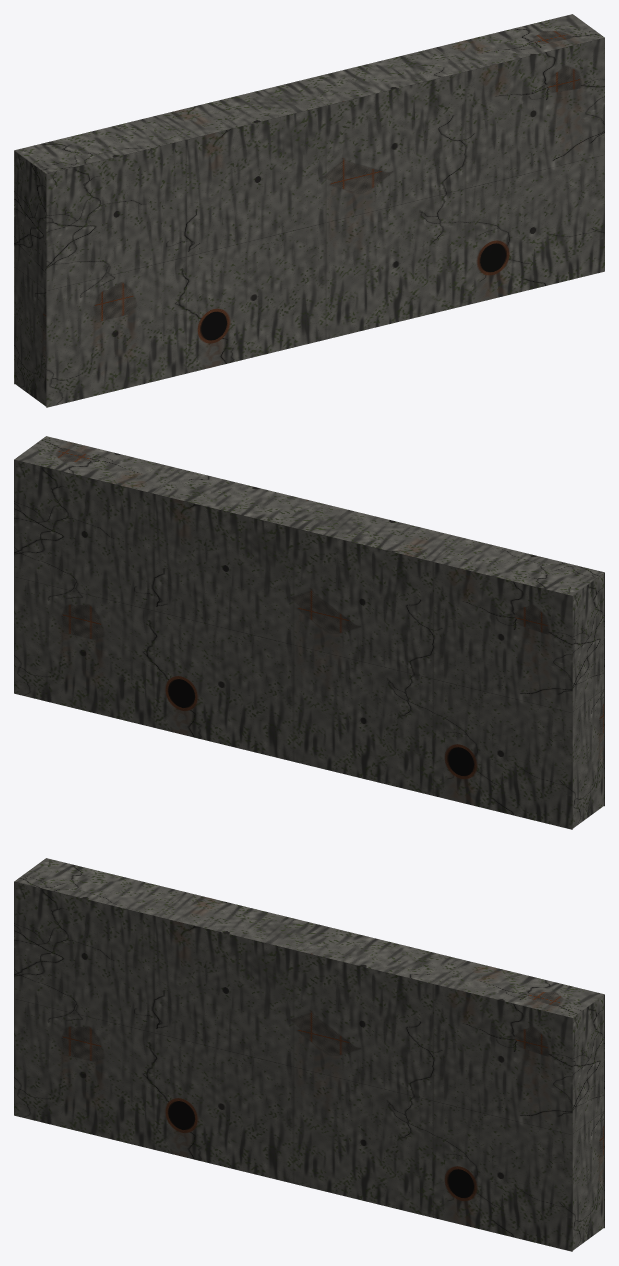
The model's file is Wall_Front.fbx.
The picture shows the model from 3 angles, top to bottom: view 1: azimuth 30°, elevation 25°; view 2: azimuth 150°, elevation 25°; view 3: azimuth 330°, elevation 25°; orthographic projection.
Visible parts, largest first — view 1: Wall_Front; view 2: Wall_Front; view 3: Wall_Front.
Boxes of the visible parts, <box> form: Wall_Front: <box>14,14,604,407</box>; Wall_Front: <box>14,436,604,829</box>; Wall_Front: <box>14,858,604,1251</box>.
Bounding box in the file's own units: 1000 × 400 × 100.
